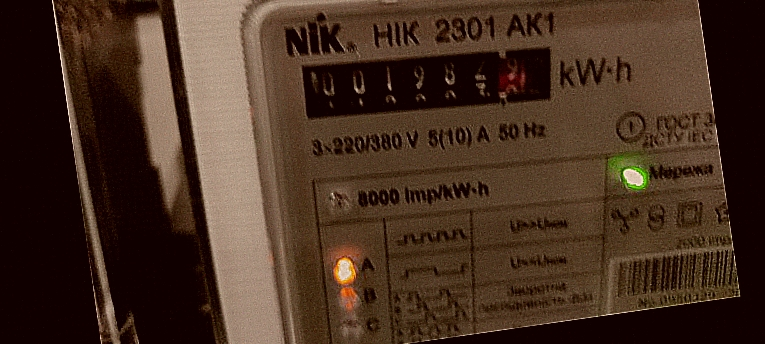0: (348, 65, 369, 97), (318, 67, 337, 98)
1: (379, 62, 395, 92)
2: (469, 51, 491, 82)
8: (439, 57, 459, 87)
9: (500, 52, 524, 83), (408, 60, 427, 91)
screen: (281, 14, 573, 149)
